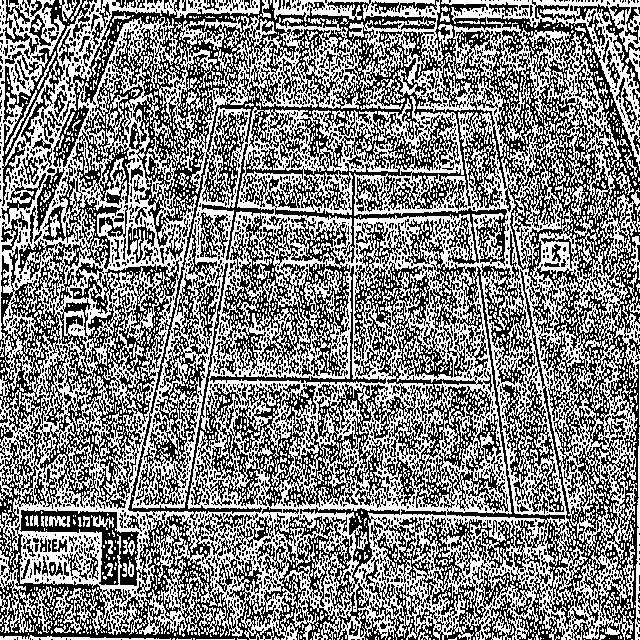left side: (129, 105, 252, 509), (456, 110, 569, 516)
player: (341, 488, 389, 636), (394, 52, 421, 125)
